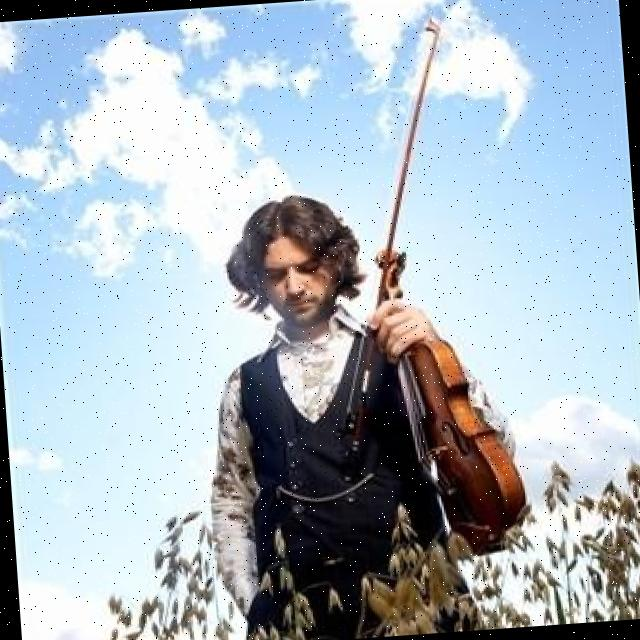violin: (370, 236, 536, 541)
